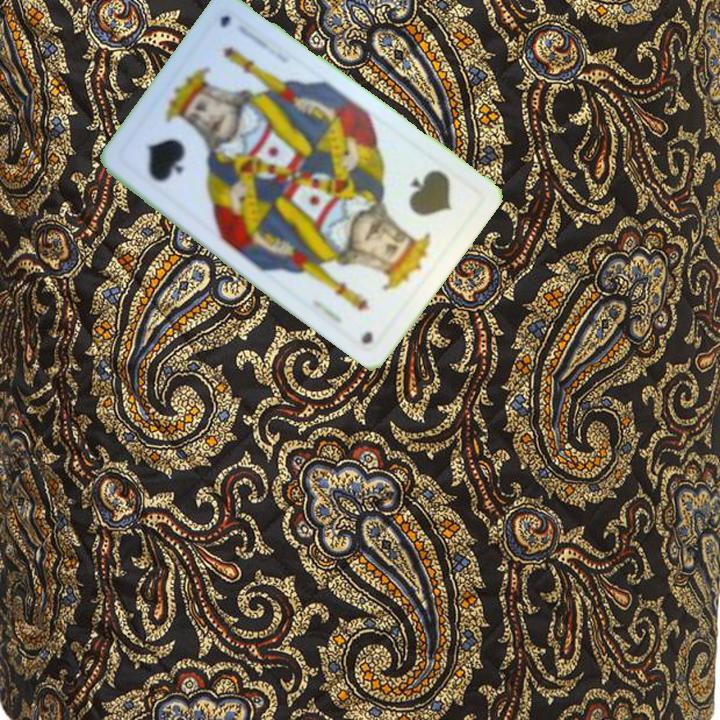s_k.png: (113, 84, 239, 213), (359, 146, 485, 275)
